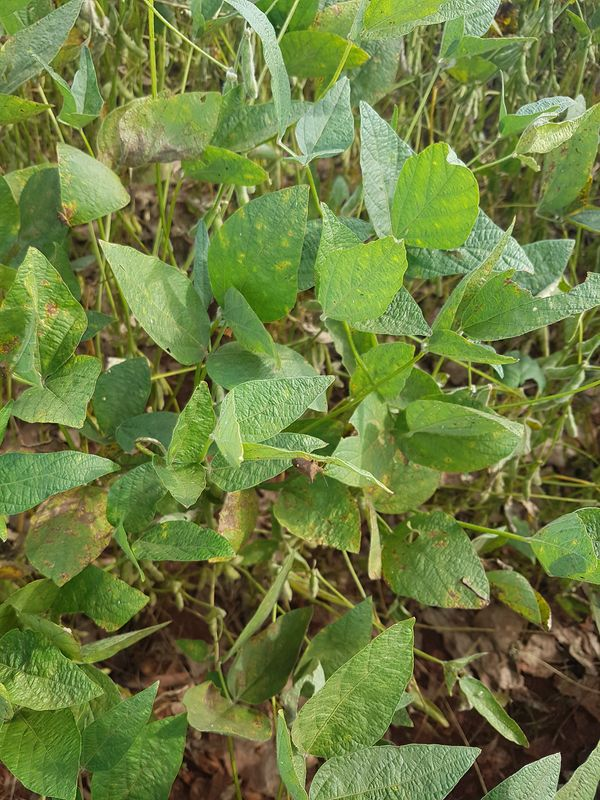Euschistus_heros_adulto: (282, 452, 330, 490), (51, 208, 76, 234)
